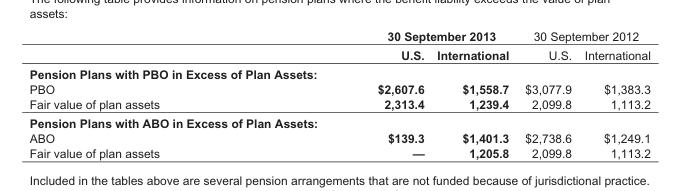table: (28, 28, 649, 159)
table column: (28, 28, 267, 159), (267, 28, 430, 159), (430, 28, 516, 159), (577, 28, 649, 159), (516, 28, 577, 159)
table column header: (28, 28, 649, 64)
table projected row header: (28, 64, 649, 81), (28, 113, 649, 130)
table row: (28, 45, 649, 64), (28, 28, 649, 45), (28, 64, 649, 81), (28, 96, 649, 113), (28, 113, 649, 130), (28, 81, 649, 96), (28, 130, 649, 145), (28, 145, 649, 159)
table spanning cell: (267, 28, 516, 45), (516, 28, 649, 45)
